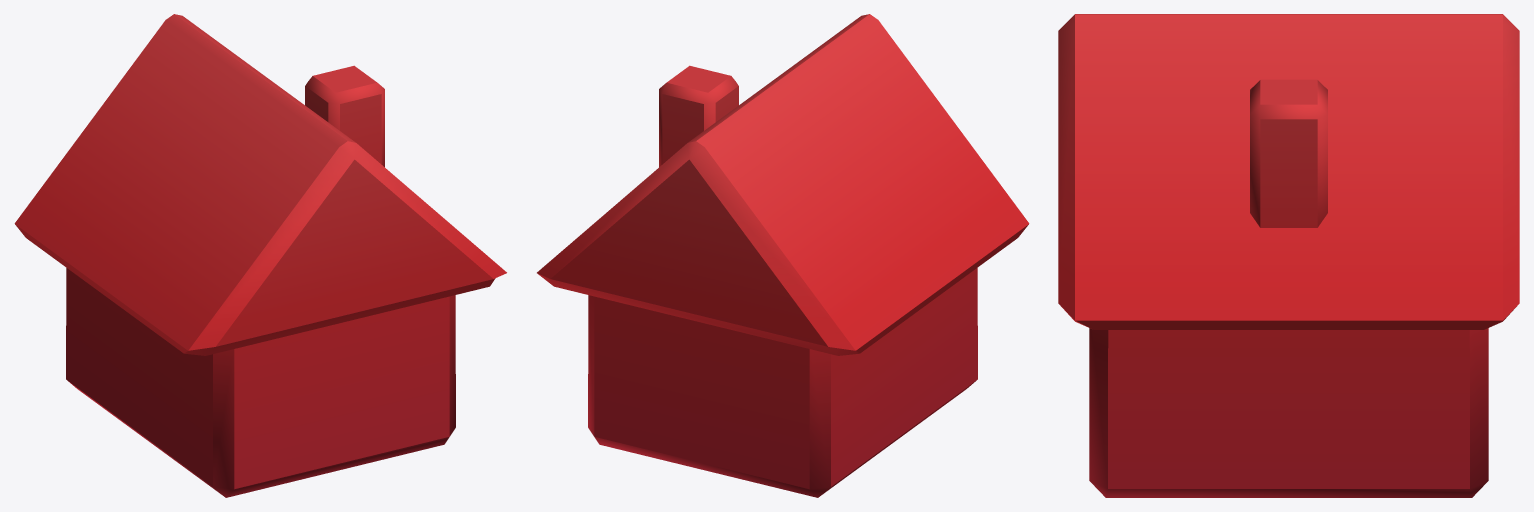
File: building-red.glb
3 views of the same model, side by side, from view 1: azimuth 30°, elevation 25°; view 2: azimuth 150°, elevation 25°; view 3: azimuth 270°, elevation 25° (orthographic). The views are drawn at different scales.
Parts seen in each view (by area): view 1: building_red; view 2: building_red; view 3: building_red.
Boxes of the visible parts, x1,y1,x2,y2 form: building_red: [14, 14, 506, 497]; building_red: [537, 14, 1029, 497]; building_red: [1058, 14, 1519, 497].
Size of the model in its own units: 0.9847 by 1 by 1.
1 material, 1 textured.
